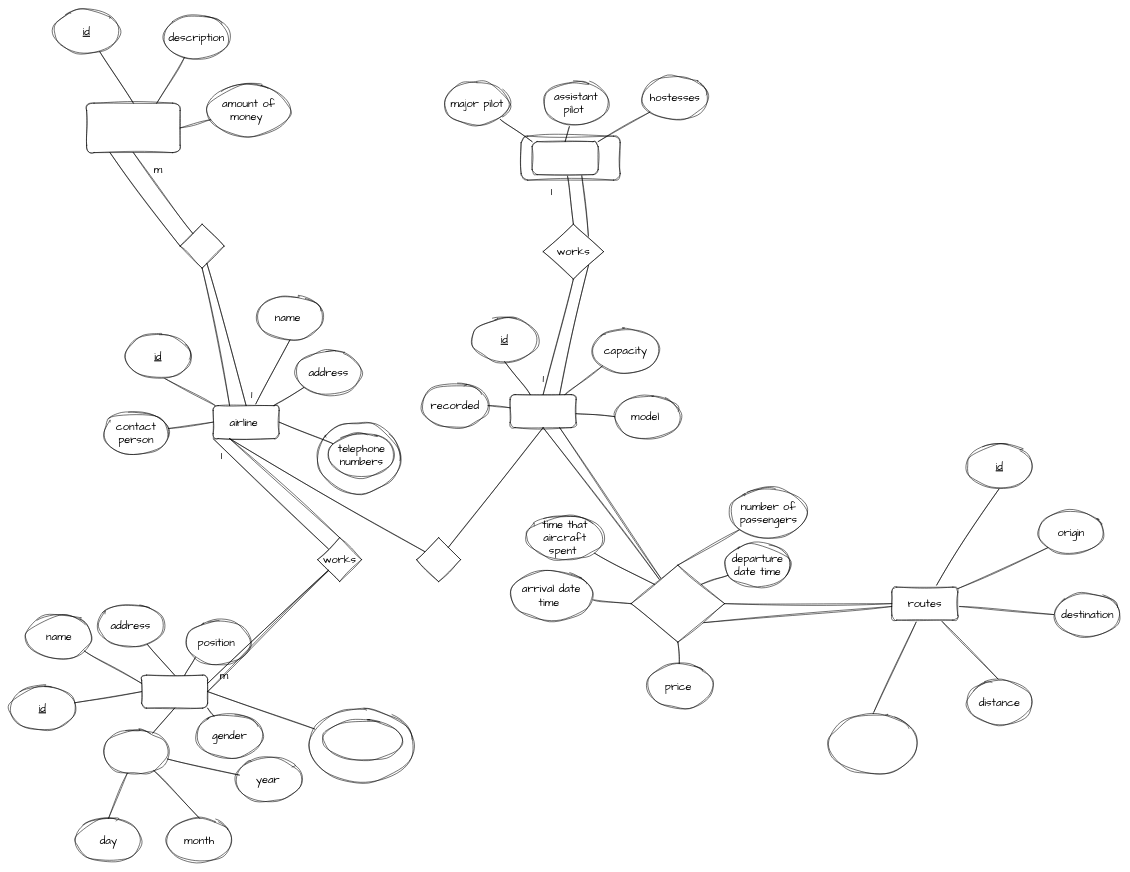
Image size: 1130x872. Some labels were removed from this diagram. The centre of each missing label's shape, as x and y in pixels:
"aircrafts" belongs at point (543, 411).
"assigned" belongs at point (678, 603).
"birthday" belongs at point (136, 752).
"classification" belongs at point (873, 743).
"crew" belongs at point (565, 158).
"employees" belongs at point (174, 691).
"has" belongs at point (202, 246).
"owns" belongs at point (438, 559).
"qualifications" belongs at point (363, 740).
"transactions" belongs at point (133, 128).
